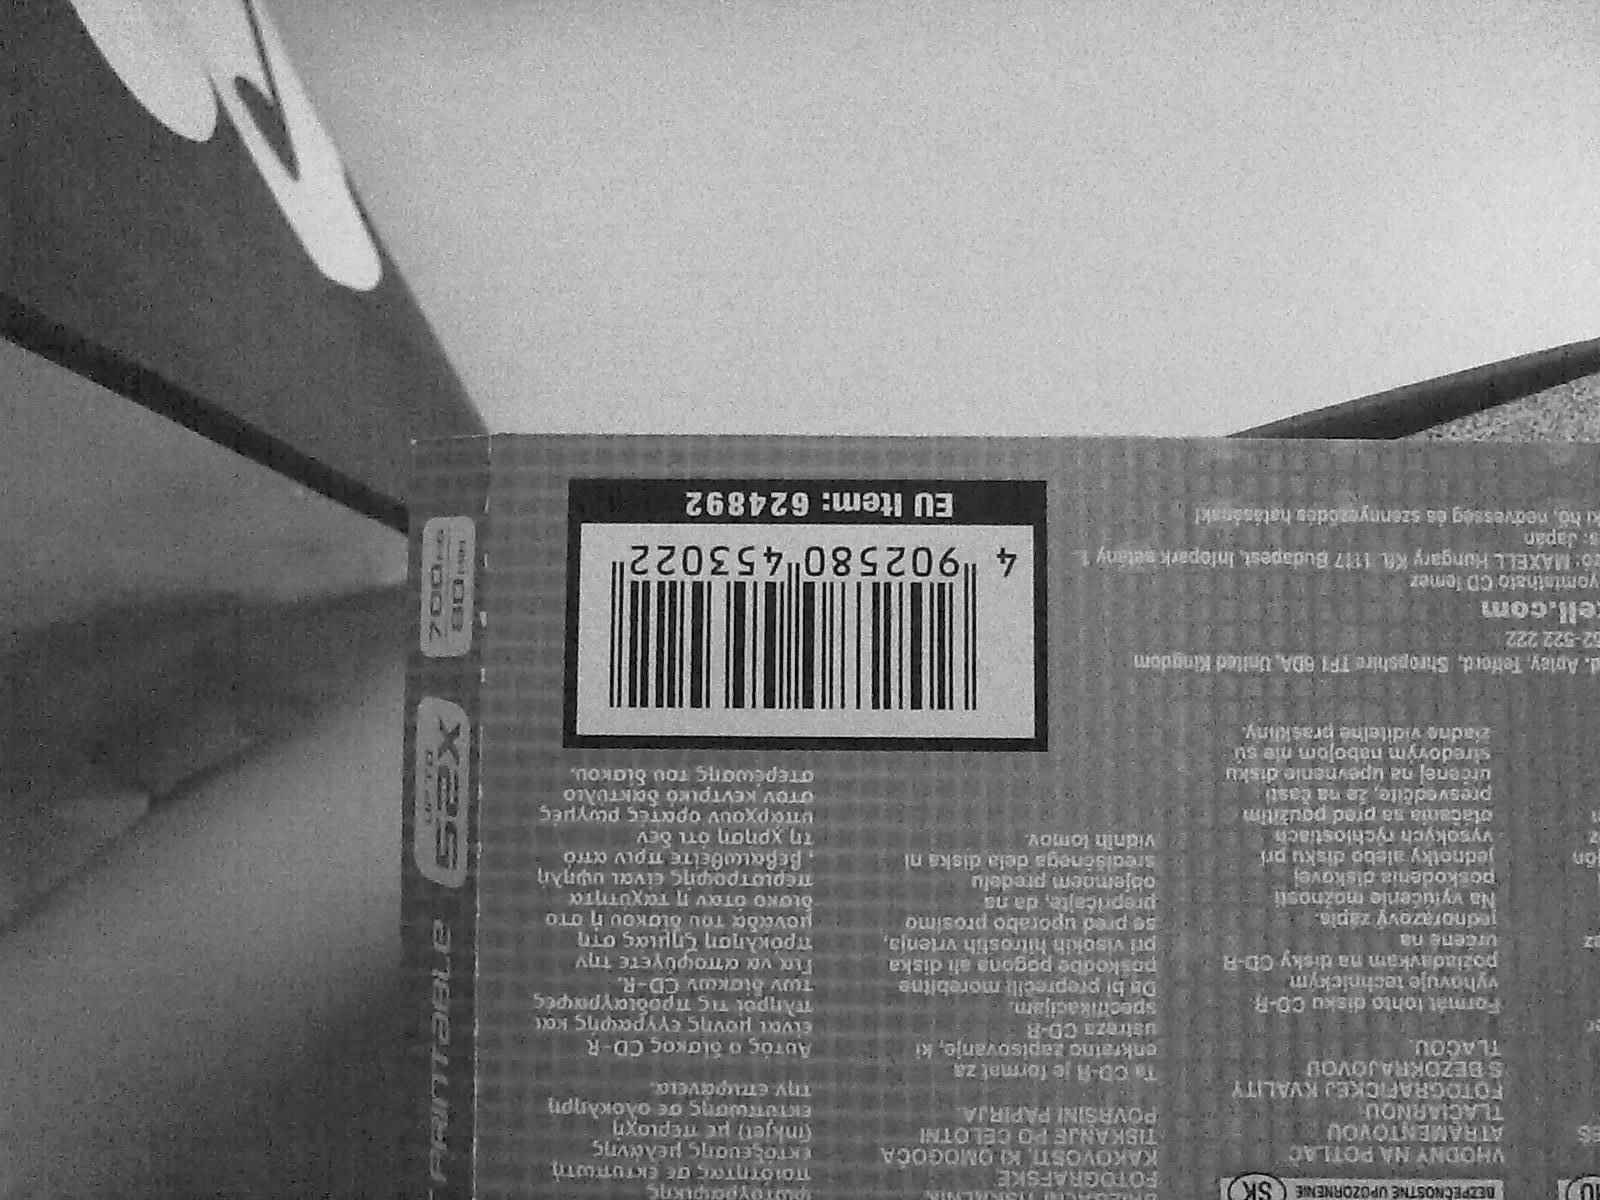Barcode: (571, 483, 1042, 737)
